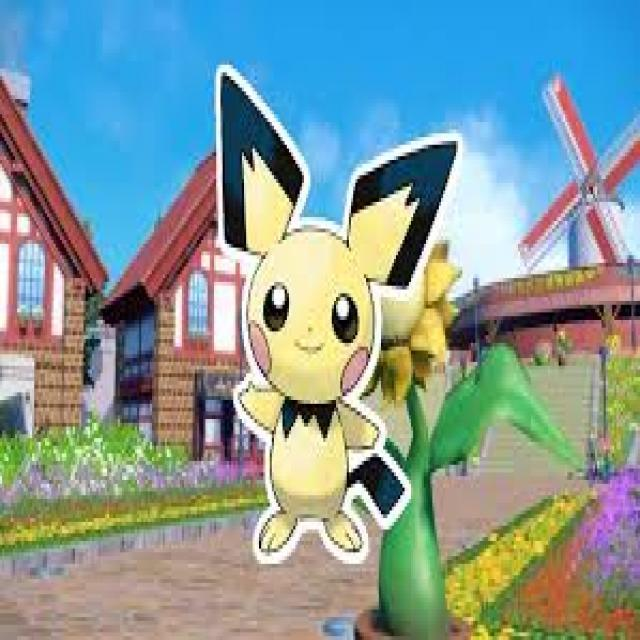pichu: (208, 59, 438, 544)
